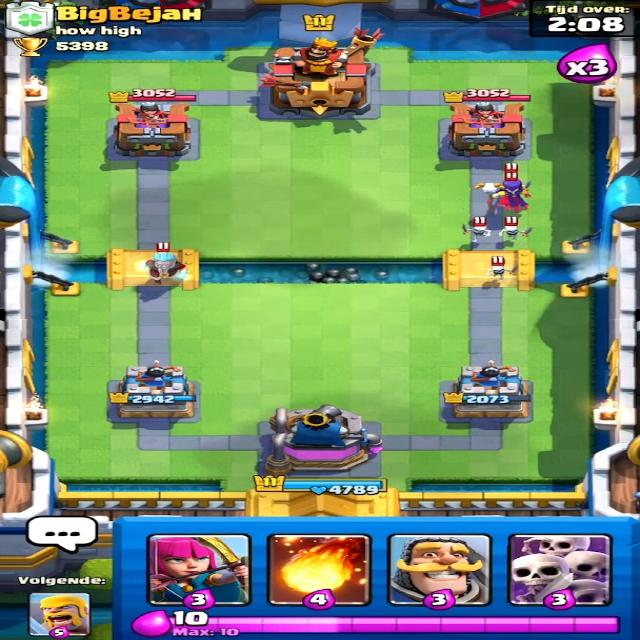Enemy_Ice_Wizard_Troop: (139, 254, 199, 290)
Enemy_Skeleton_Troop: (461, 215, 492, 246), (477, 257, 515, 280), (498, 219, 527, 242)
Enemy_Witch_Troop: (477, 179, 539, 209)
Fireball_Card: (262, 532, 373, 607)
